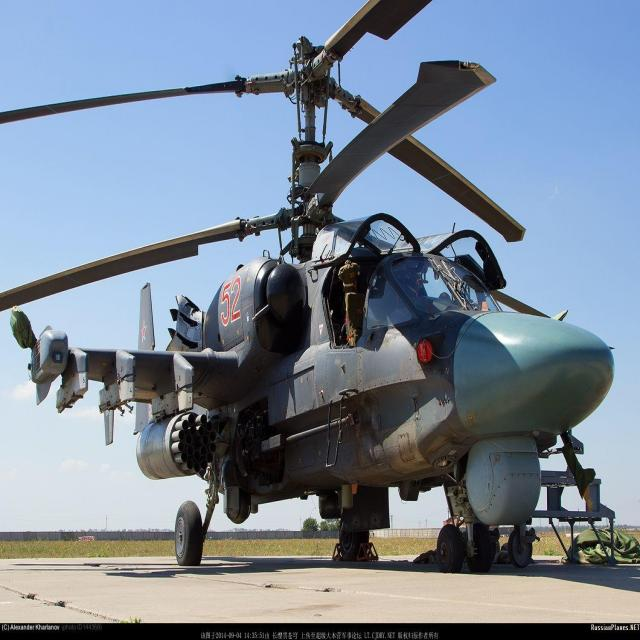MIL_HELO: (0, 4, 640, 571)
